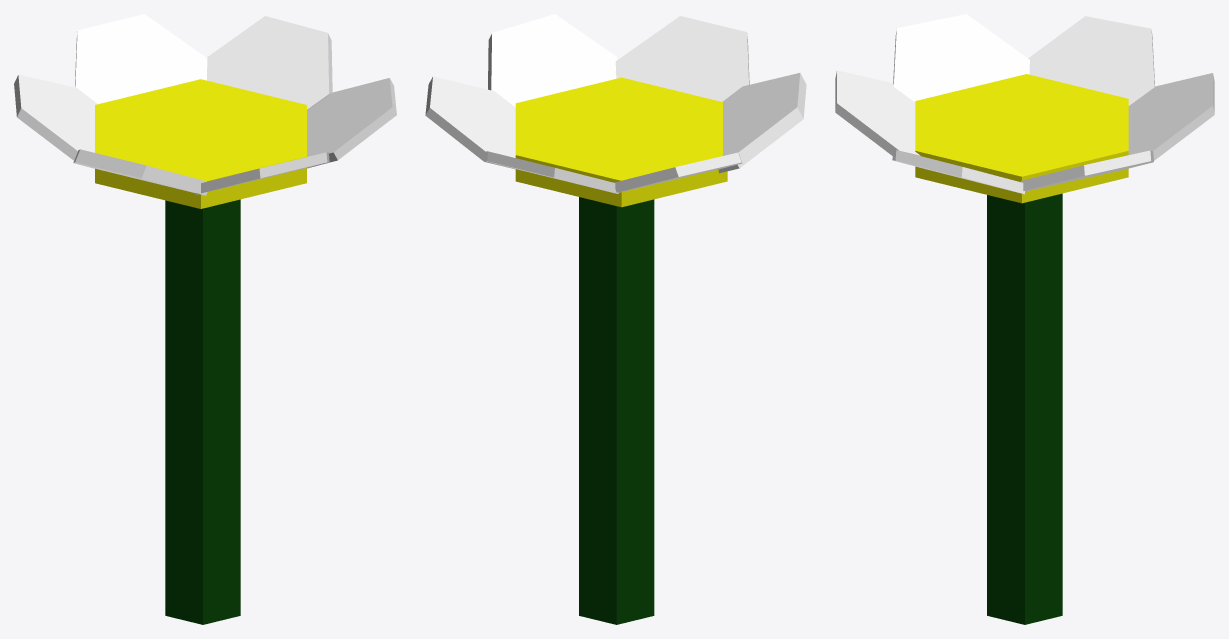
File: Pretty FlowerOBJ.obj
3 renders of one model, left to right at view 1: azimuth 30°, elevation 25°; view 2: azimuth 150°, elevation 25°; view 3: azimuth 270°, elevation 25°, orthographic.
Parts seen in each view (by area): view 1: group10_pasted__group5_pasted__pasted__group4_pasted__p_dd4893e_; view 2: group10_pasted__group5_pasted__pasted__group4_pasted__p_dd4893e_; view 3: group10_pasted__group5_pasted__pasted__group4_pasted__p_dd4893e_.
Part boxes in pixels (<box>): group10_pasted__group5_pasted__pasted__group4_pasted__p_dd4893e_: <box>14,14,396,624</box>; group10_pasted__group5_pasted__pasted__group4_pasted__p_dd4893e_: <box>425,14,806,624</box>; group10_pasted__group5_pasted__pasted__group4_pasted__p_dd4893e_: <box>835,14,1214,624</box>.
Bounding box in the file's own units: 0.0193 × 0.0301 × 0.0199.
